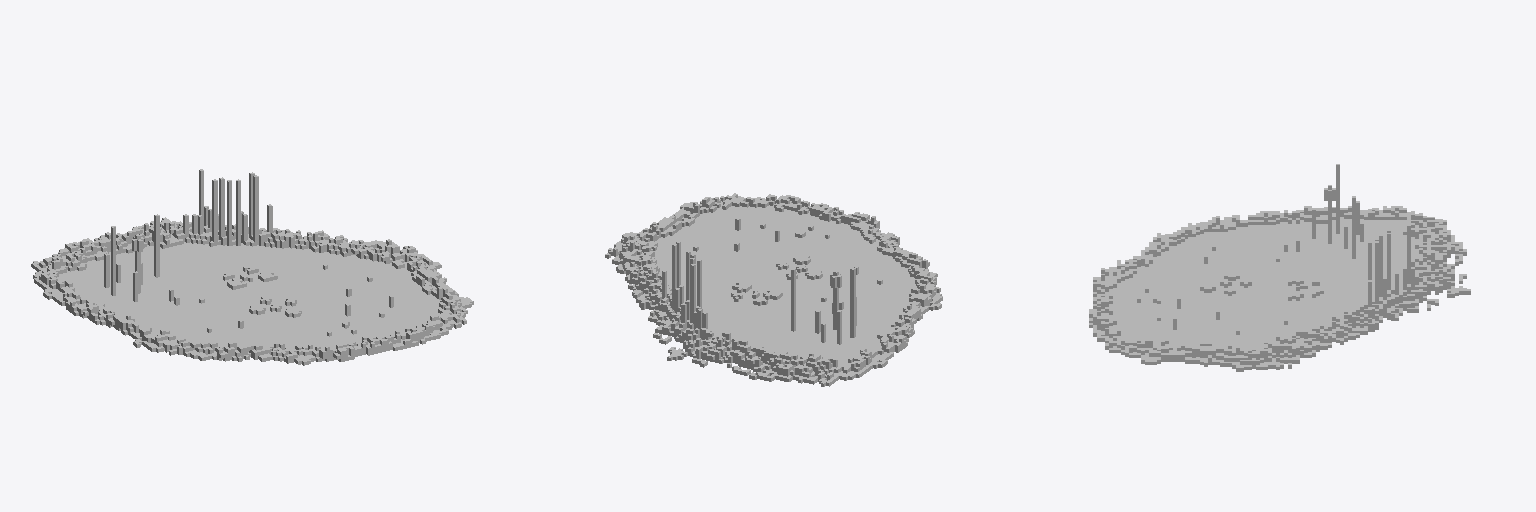
Rendered from pond.obj.
The picture shows the model from 3 angles: view 1: azimuth 30°, elevation 25°; view 2: azimuth 150°, elevation 25°; view 3: azimuth 270°, elevation 25°; orthographic projection.
Visible parts, largest first — view 1: object 1; view 2: object 1; view 3: object 1.
Boxes of the visible parts, box(x1,y1,x2,y2) form: object 1: box(31, 169, 473, 365); object 1: box(605, 193, 942, 386); object 1: box(1089, 164, 1470, 371).
Bounding box in the file's own units: 9.5 × 2 × 9.6.